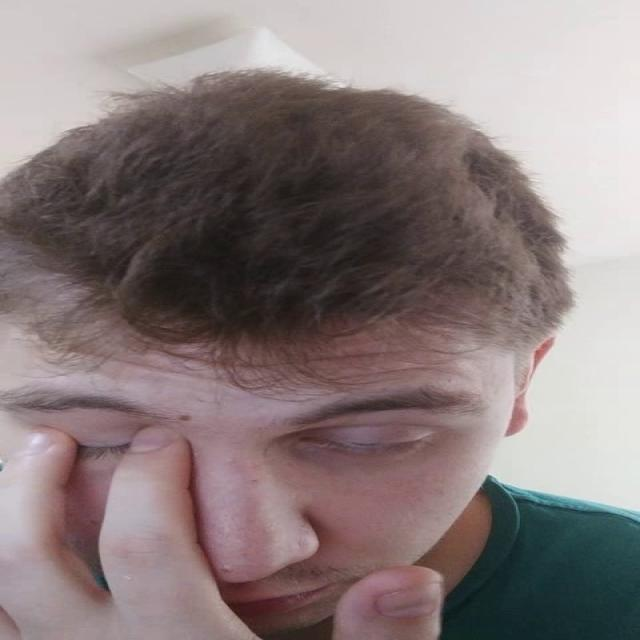Eyeclosed: (302, 426, 437, 463), (72, 429, 132, 464)
